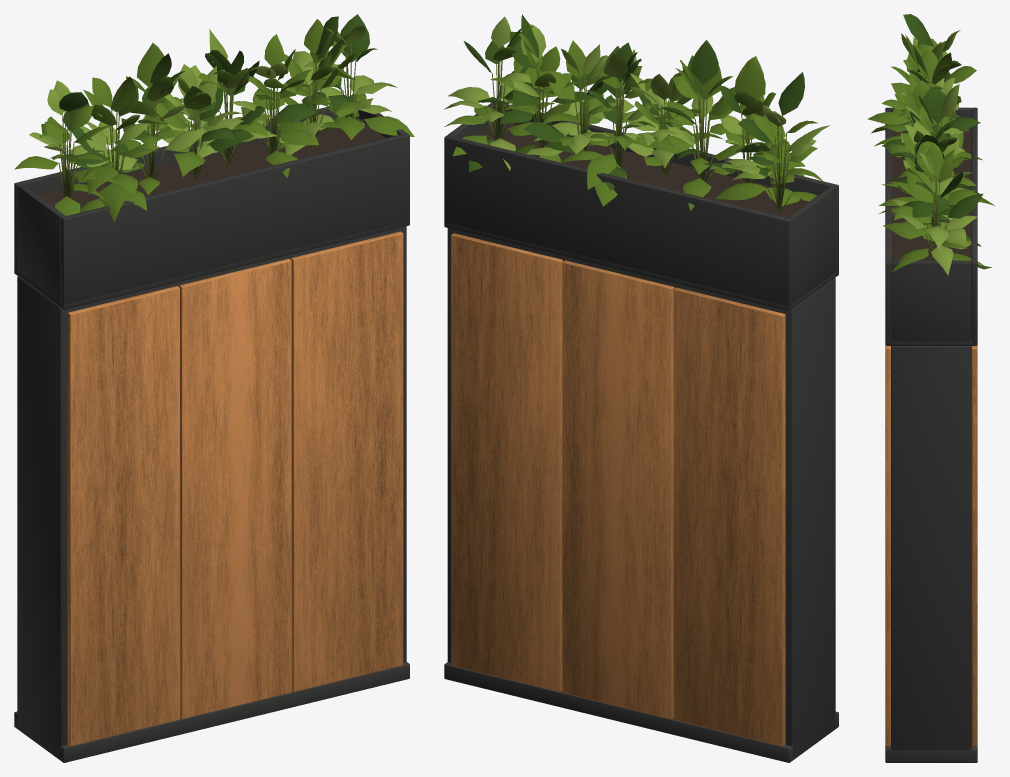
Rendered from greenery.planter-divider-tall.glb.
3 renders of one model, left to right at view 1: azimuth 30°, elevation 25°; view 2: azimuth 150°, elevation 25°; view 3: azimuth 270°, elevation 25°, orthographic. The views are drawn at different scales.
Parts seen in each view (by area): view 1: greenery.planter-divider-tall.001; view 2: greenery.planter-divider-tall.001; view 3: greenery.planter-divider-tall.001.
Part boxes in pixels (x1,y1,x2,y2): greenery.planter-divider-tall.001: (14, 14, 414, 762); greenery.planter-divider-tall.001: (444, 14, 838, 762); greenery.planter-divider-tall.001: (867, 14, 994, 762).
Bounding box in the file's own units: 1.32 × 2.22 × 0.42.
Materials: 7 (1 with a texture image).
